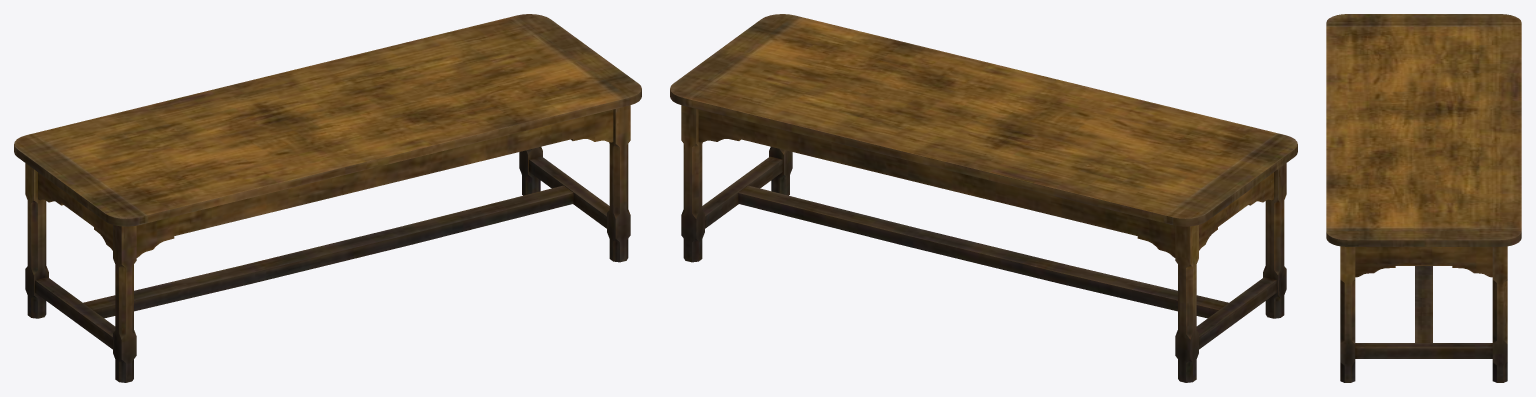
The picture shows the model from 3 angles, left to right: view 1: azimuth 30°, elevation 25°; view 2: azimuth 150°, elevation 25°; view 3: azimuth 270°, elevation 25°; orthographic projection. The views are drawn at different scales.
Parts seen in each view (by area): view 1: WoodenTable_01; view 2: WoodenTable_01; view 3: WoodenTable_01.
Part boxes in pixels (x1,y1,x2,y2): WoodenTable_01: (14,14,641,382); WoodenTable_01: (670,14,1297,382); WoodenTable_01: (1326,14,1521,382).
Bounding box in the file's own units: 1.8 × 0.5488 × 0.6572.
Materials: 1 (1 with a texture image).
